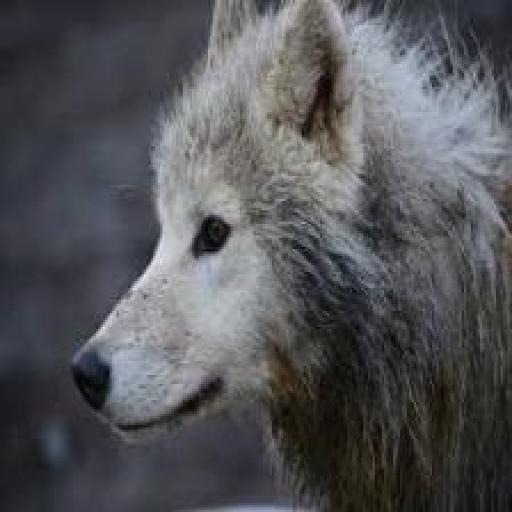wolf: (61, 0, 512, 512)
